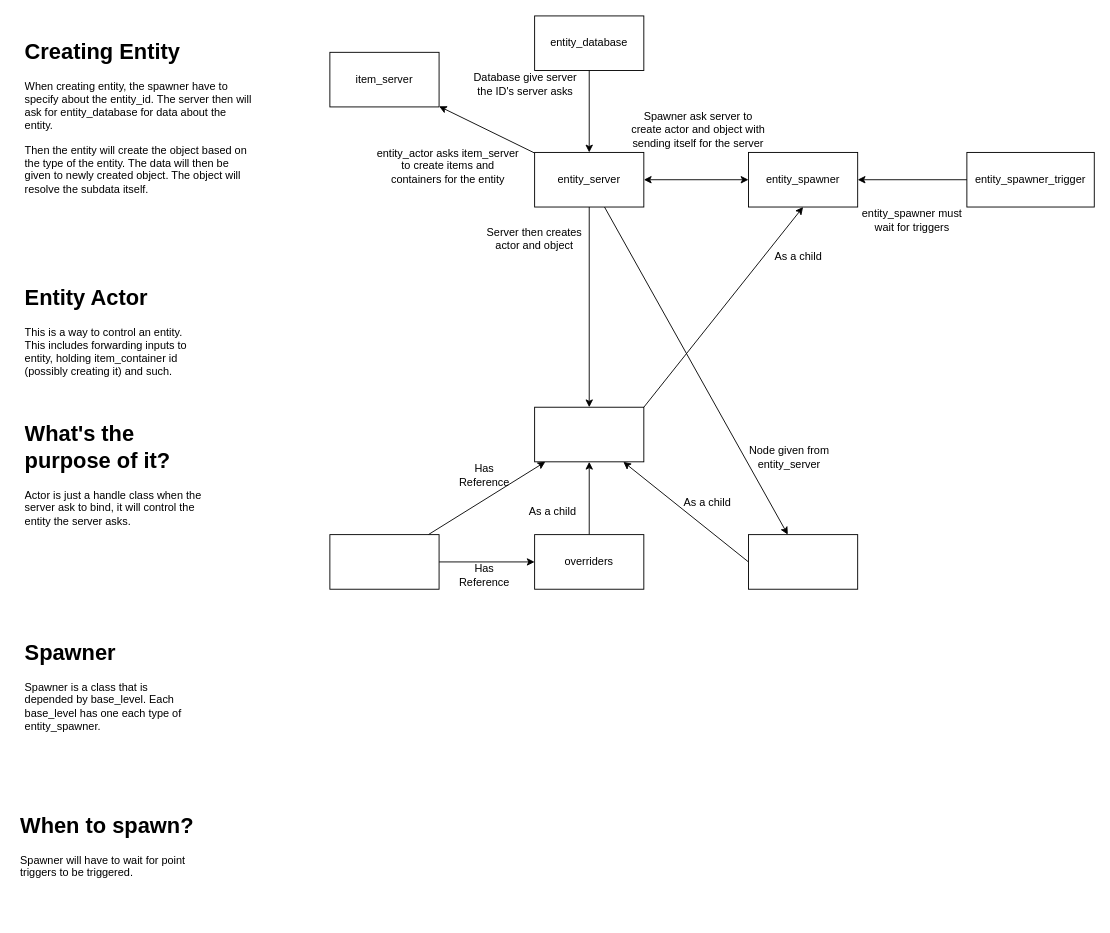
The diagram is 1110 pixels wide and 933 high, and some of its shapes have lost their labels. The centre of each missing label's shape, as x and y in pixels:
"entity_actor" goes at [384,561].
"entity_object" goes at [589,434].
"item tools node" goes at [803,561].
